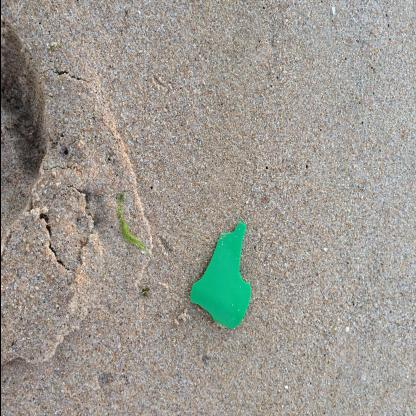plastik: (190, 220, 250, 330)
